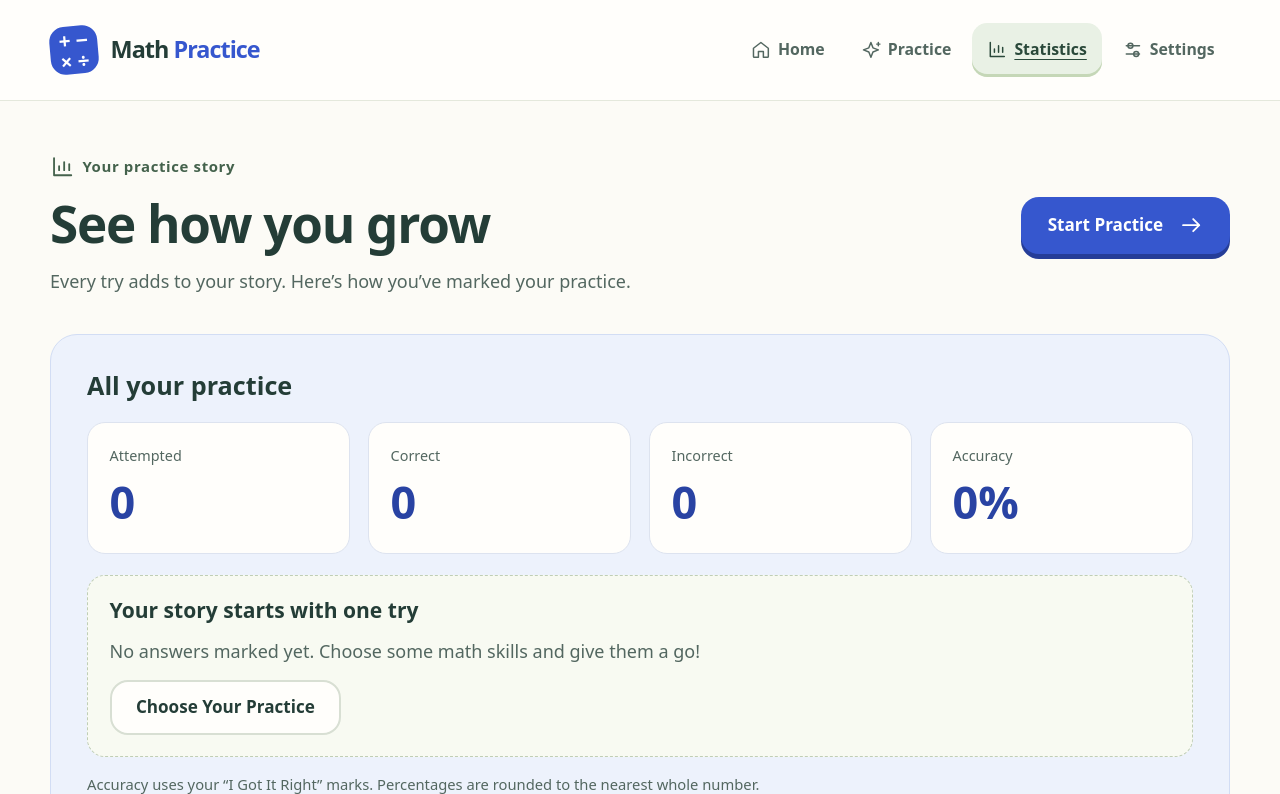
shows a welcoming empty overview, all eight empty groups, and empty recent history
Expected: the heading "See how you grow" is shown, [50, 188, 490, 258]
Expected: the heading "Your story starts with one try" is shown, [110, 595, 418, 624]
Click the link "Choose Your Practice".
click(225, 707)  # box [110, 680, 341, 735]
(page scrolled)
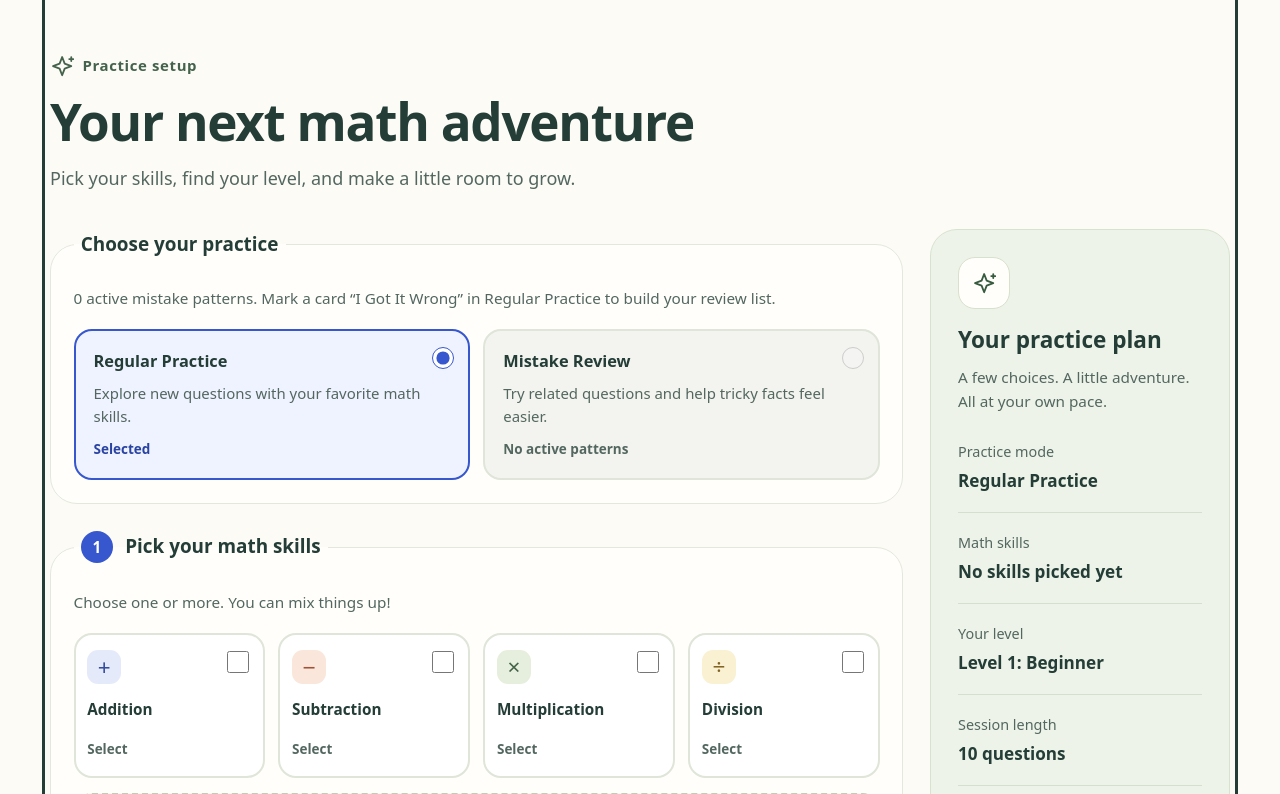
Result: the heading "Your next math adventure" is shown at [50, 86, 694, 156]
